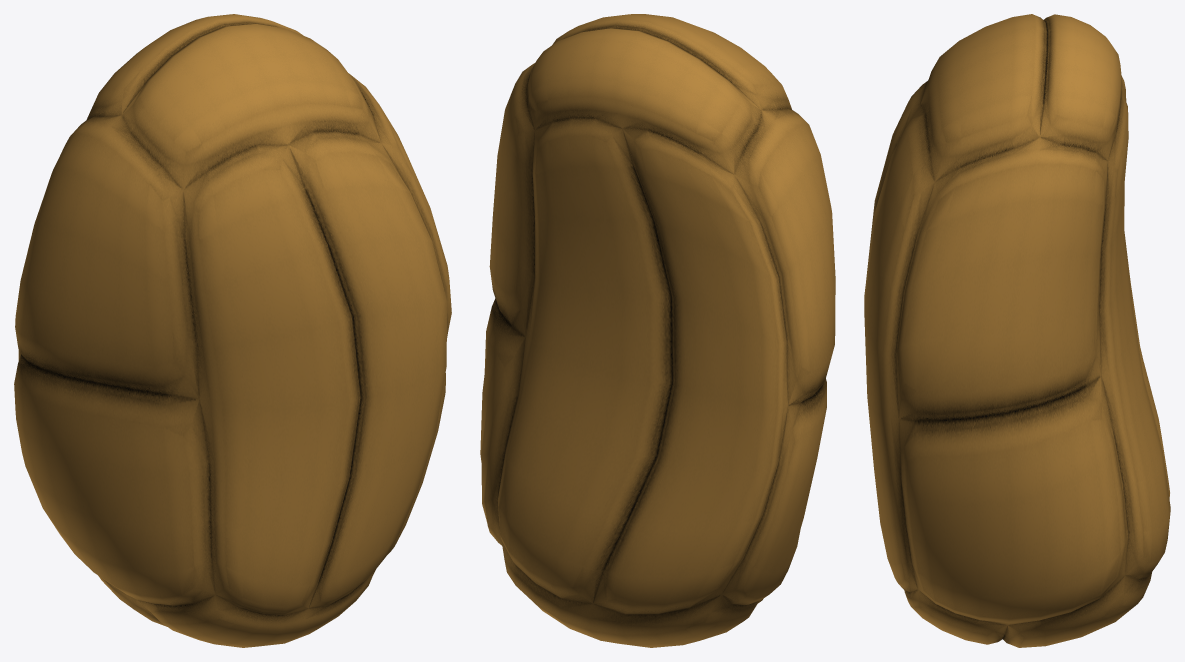
The model's file is powerup-ball.fbx.
3 views of the same model, side by side, from view 1: azimuth 30°, elevation 25°; view 2: azimuth 150°, elevation 25°; view 3: azimuth 270°, elevation 25° (orthographic). The views are drawn at different scales.
Parts seen in each view (by area): view 1: applied_modifiers.001; view 2: applied_modifiers.001; view 3: applied_modifiers.001.
Part boxes in pixels (x1,y1,x2,y2): applied_modifiers.001: [14, 14, 451, 647]; applied_modifiers.001: [480, 14, 835, 647]; applied_modifiers.001: [864, 14, 1170, 647].
Bounding box in the file's own units: 31.38 × 50.34 × 23.08.
